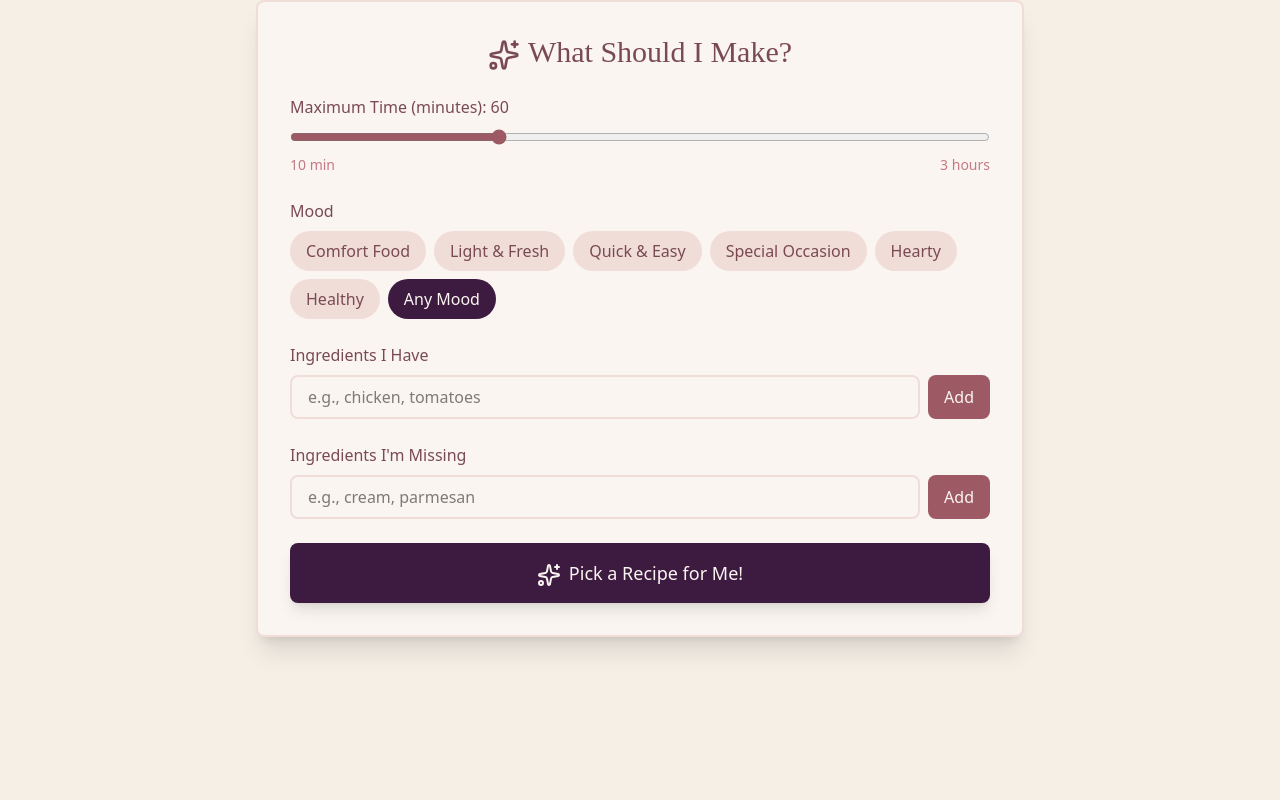
Test case: pick flow › should show the recipe mood badge in the modal when mood is set
The image size is (1280, 800).
Click the button "Pick a Recipe for Me!".
click(640, 573)  # box [290, 543, 990, 603]
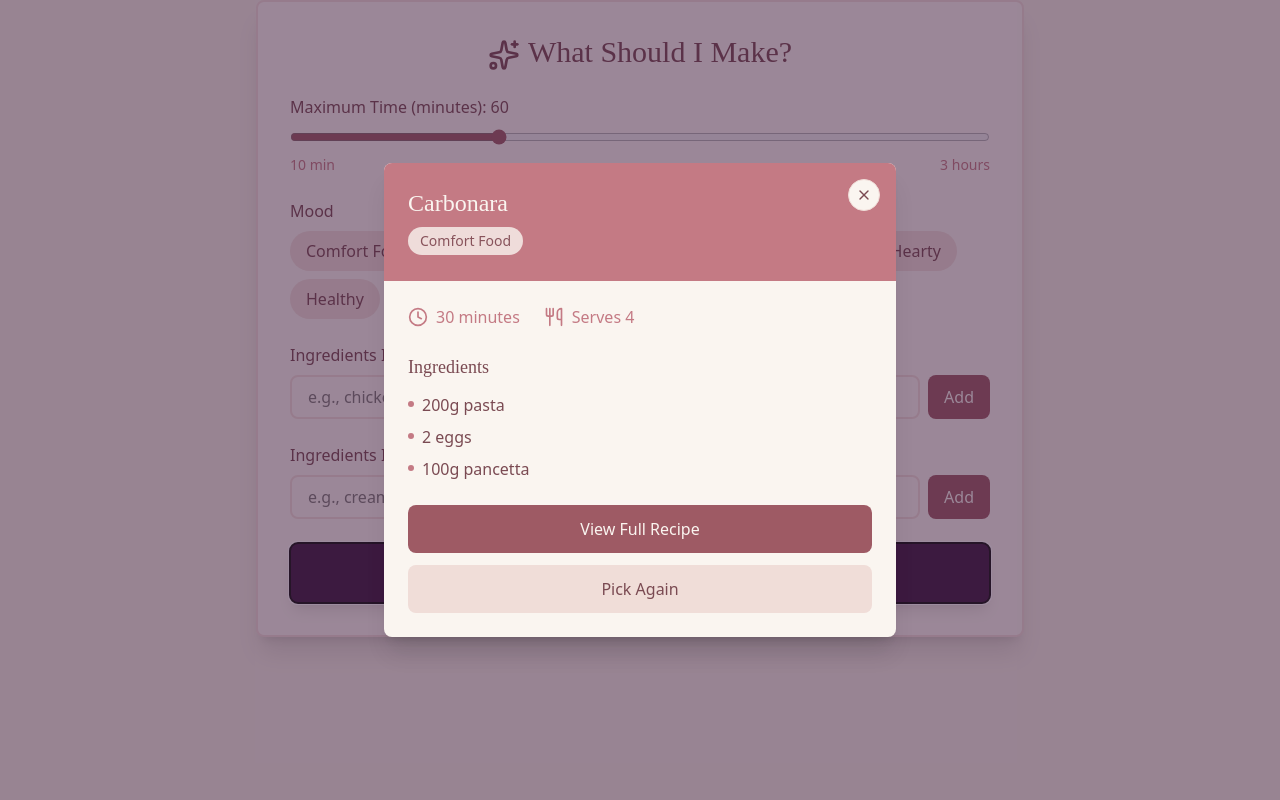
Check: the element with class "fixed" is shown
Check: the element with class "fixed" shows "Comfort Food", box [420, 231, 511, 250]
